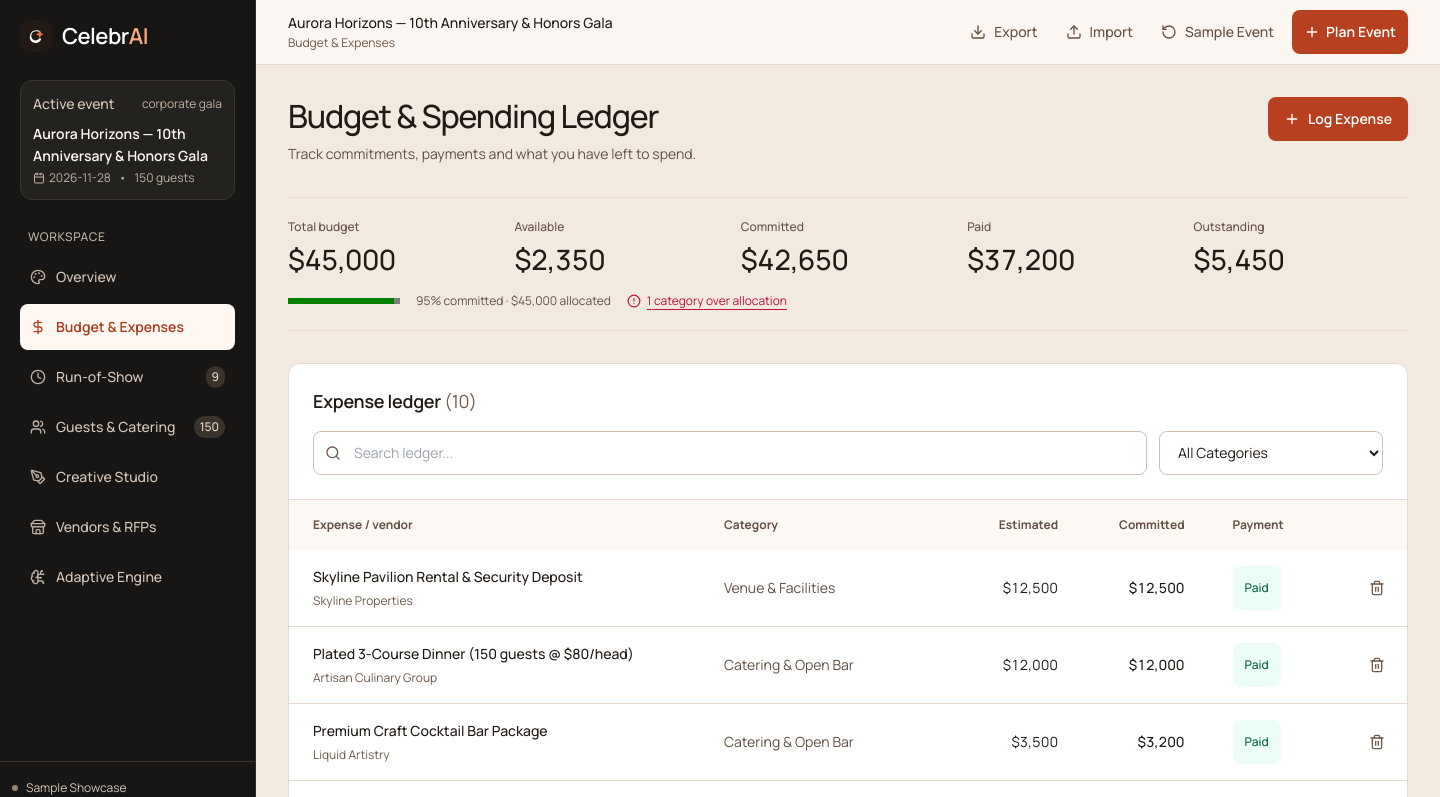
Test: Redesign interaction regressions › uses a labelled expense dialog and records fractional currency exactly
This screenshot has width=1440, height=797.
Click the button "Log Expense" at point(1338, 119), box [1268,97,1408,141]
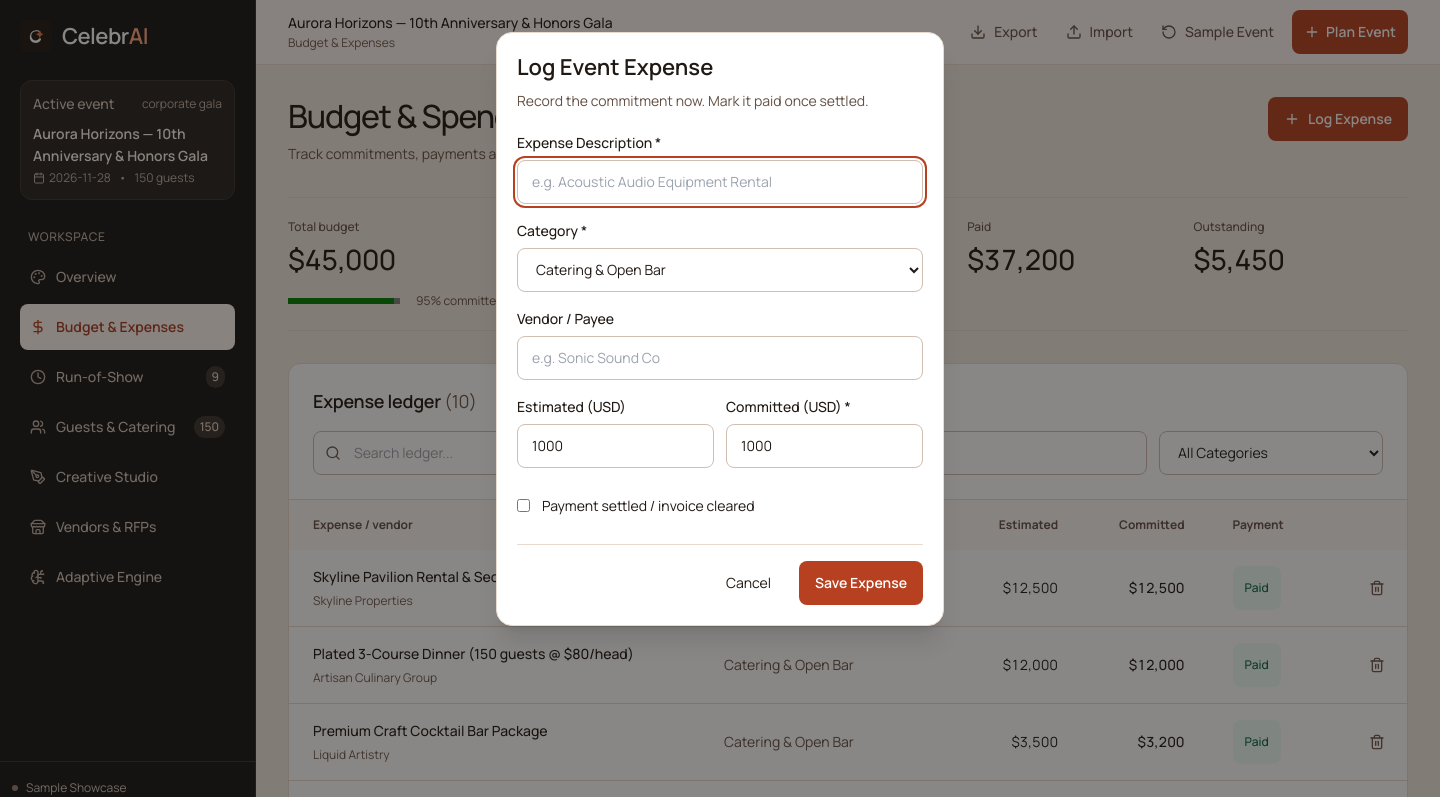
Now the dialog "Log Event Expense" is shown, box [496,32,944,626]
Press Tab in the field labelled "Expense Description *", box [517,160,923,204]
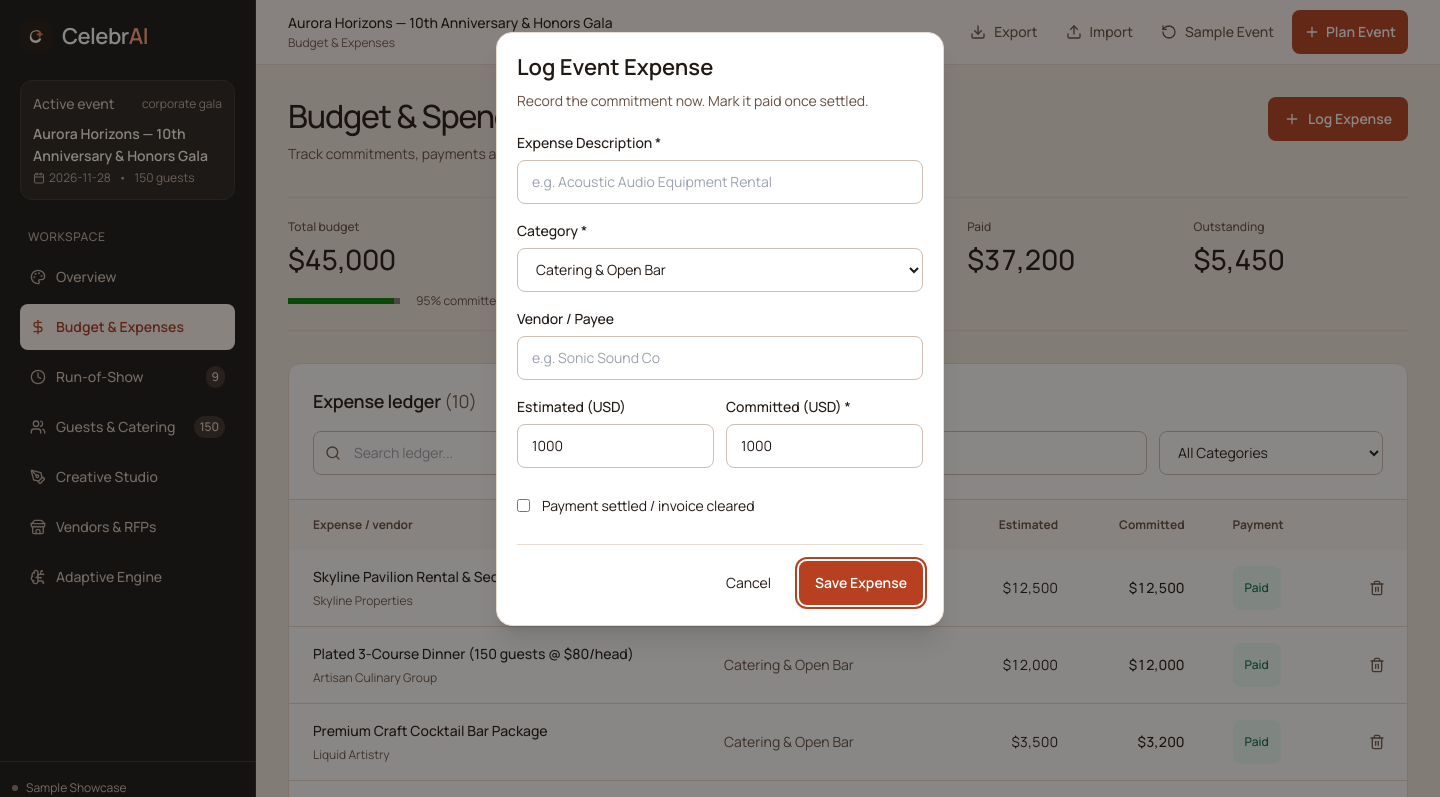
Press Tab in the button "Save Expense", box [799,561,923,605]
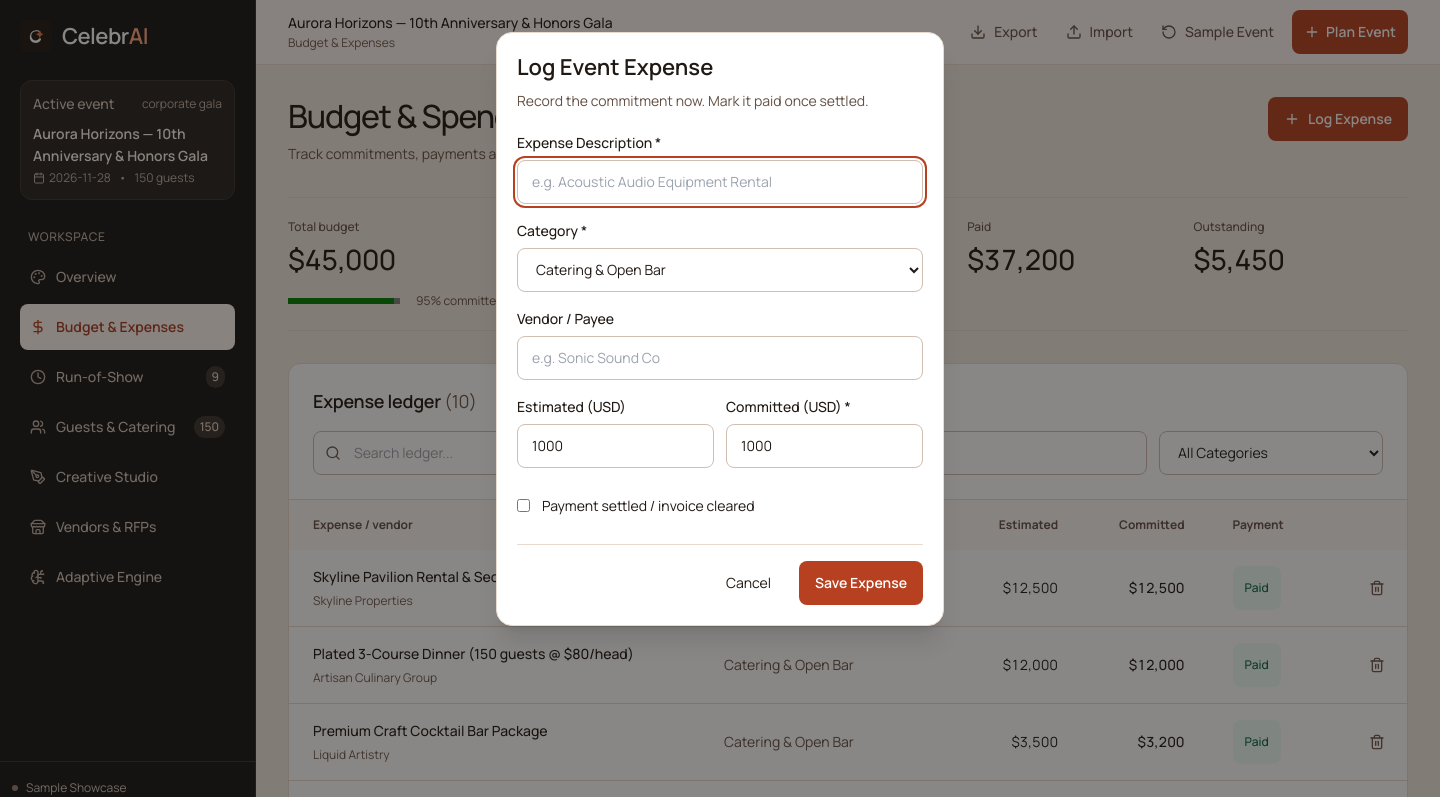
Type "Test cents" into the field labelled "Expense Description *" at point(720, 182), box [517,160,923,204]
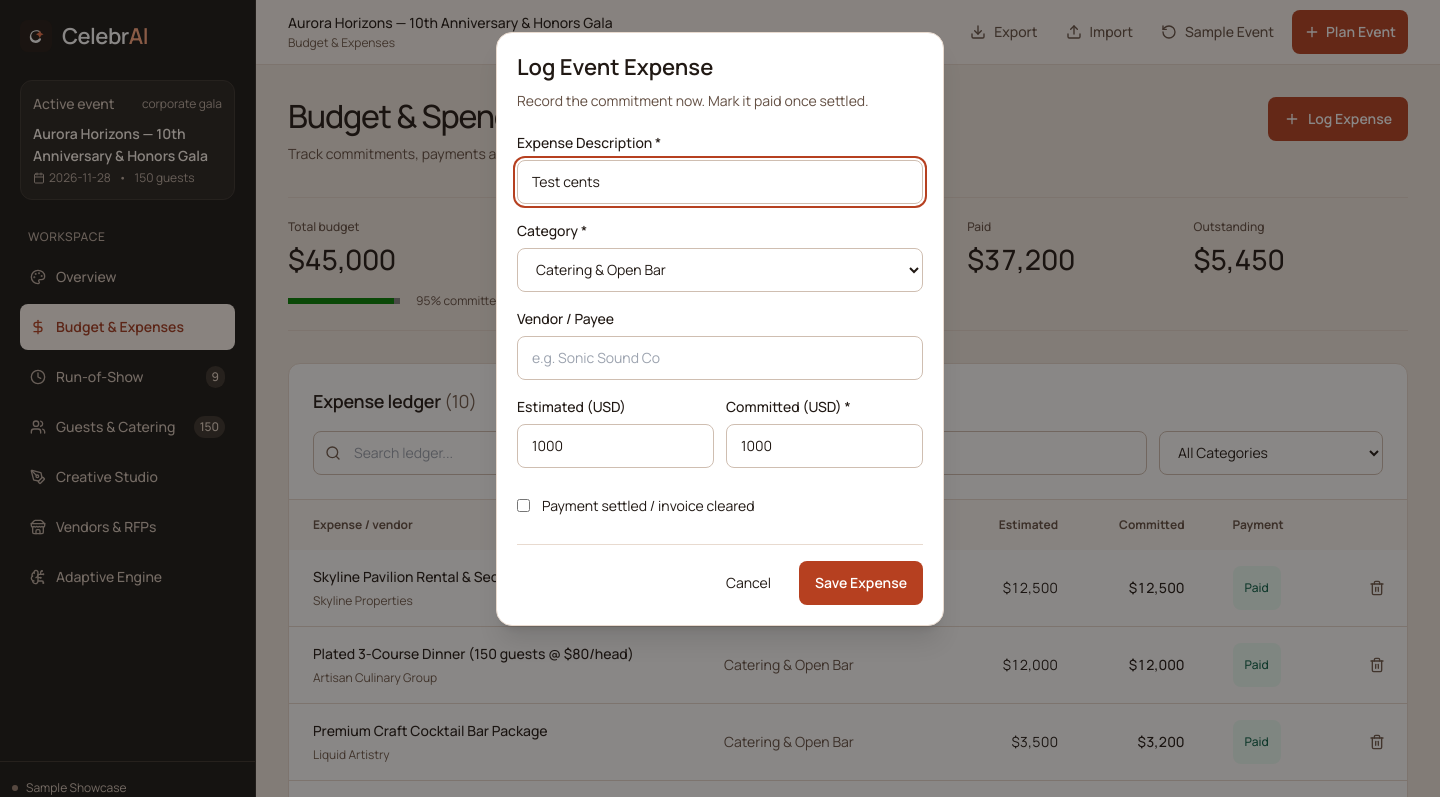
Replace the text in the number field labelled "Committed (USD) *" with "10.25" at point(824, 446), box [726,424,923,468]
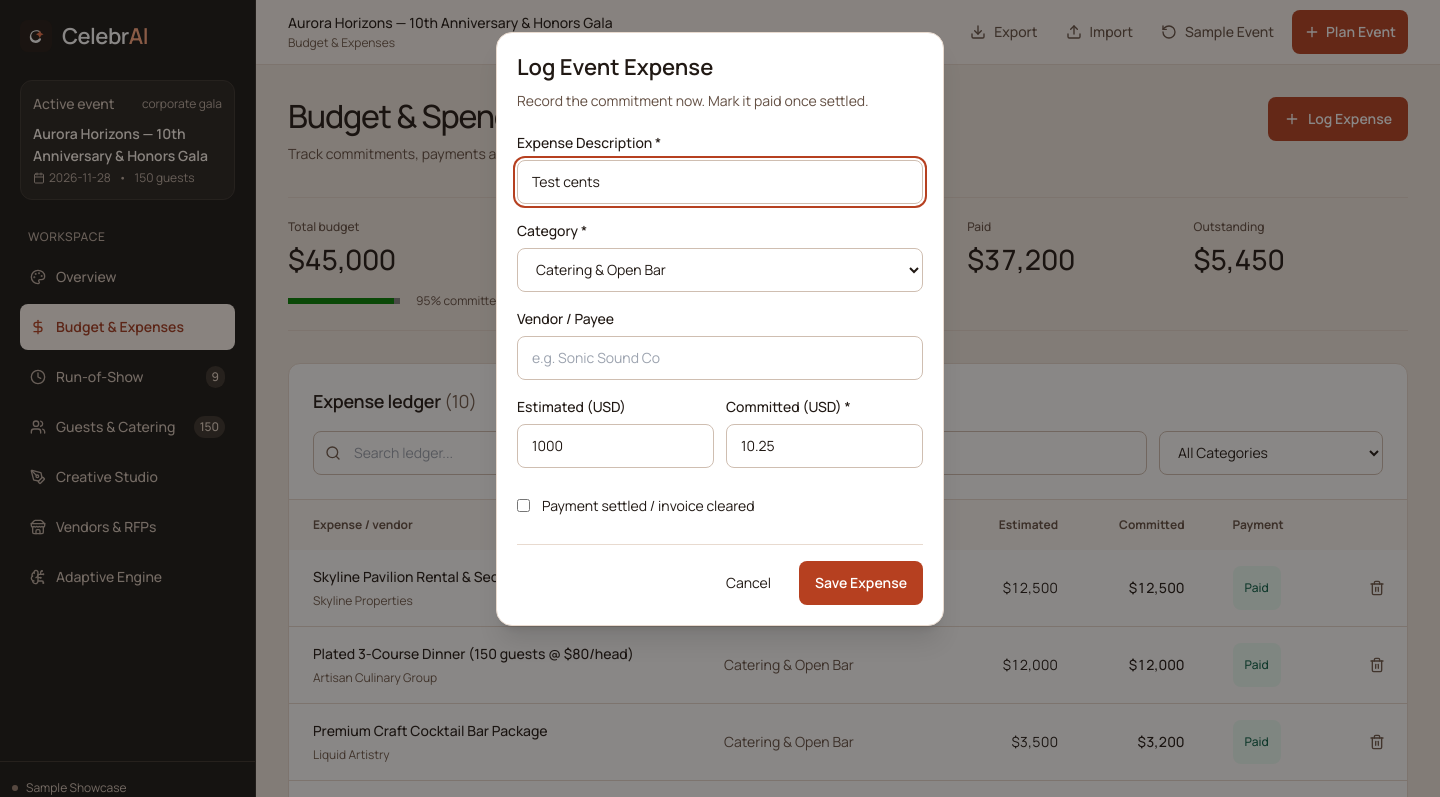
Click the button "Save Expense" at point(861, 583), box [799,561,923,605]
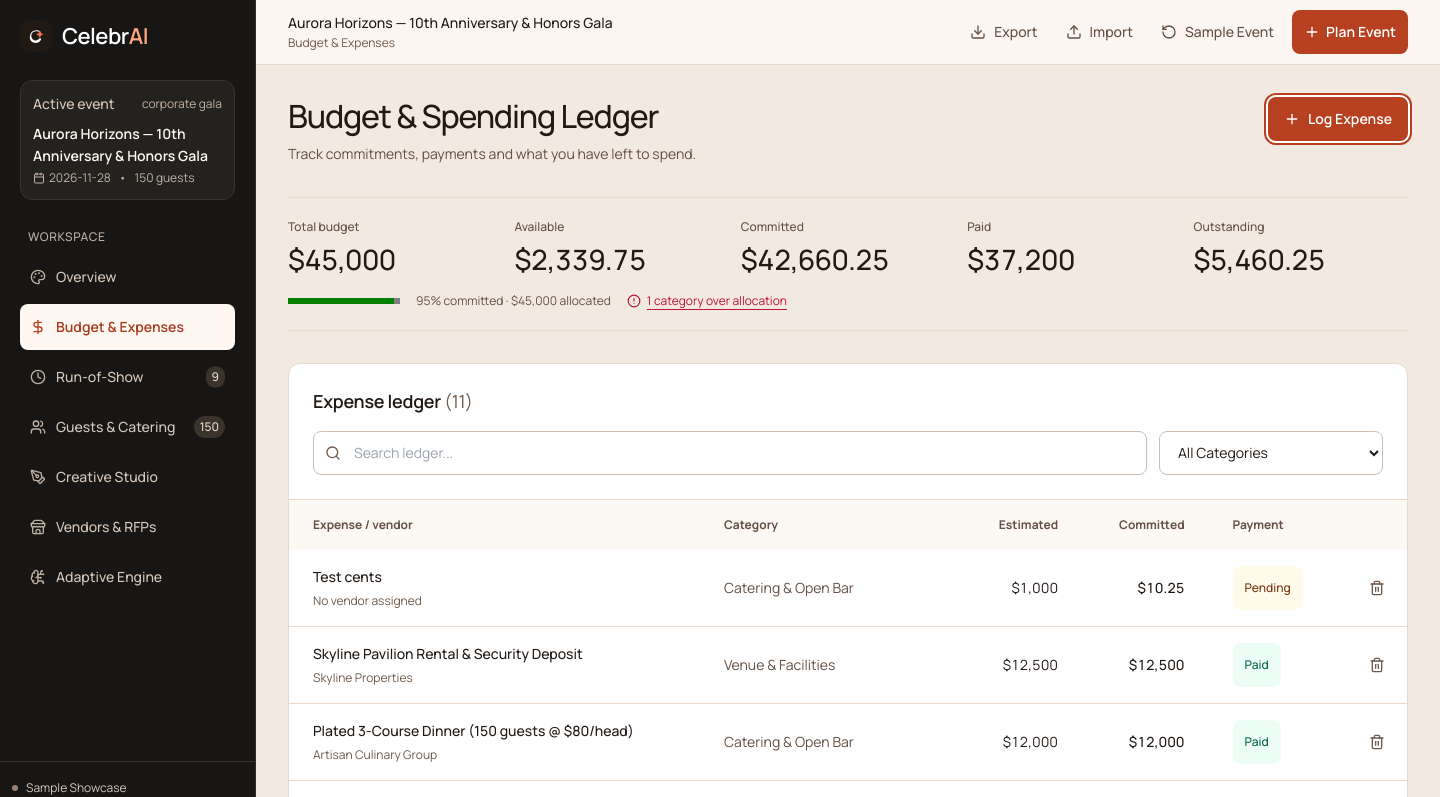
Now the dialog is gone
